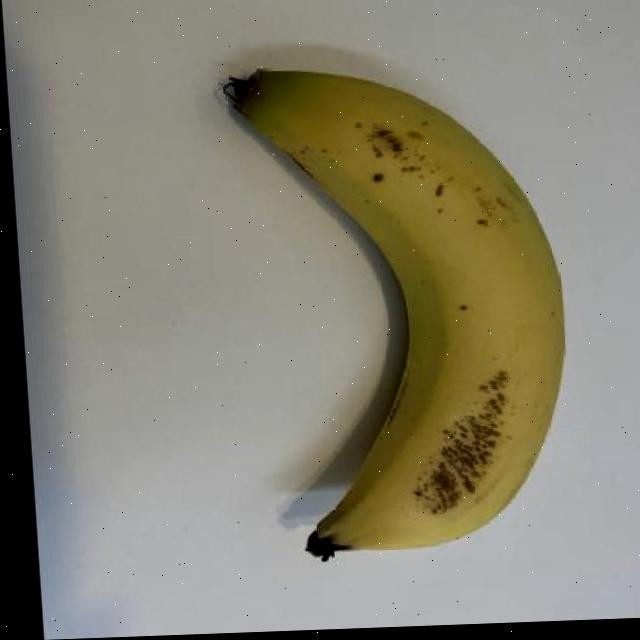banana: (219, 56, 589, 565)
